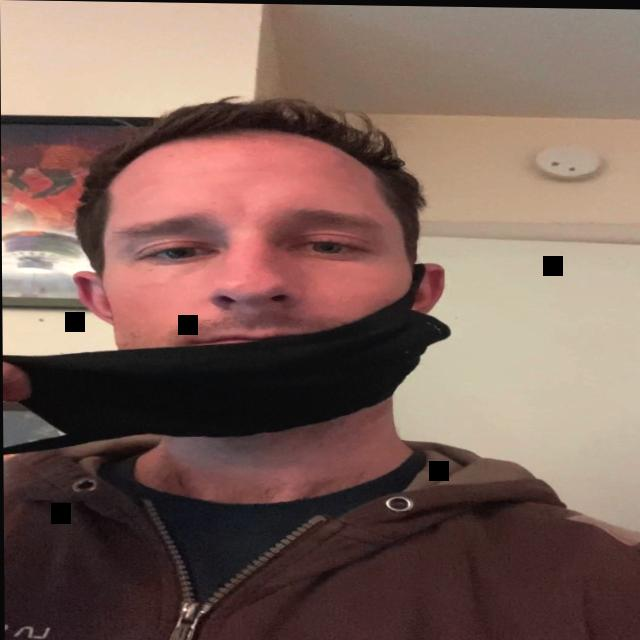NO-Mask: (56, 113, 438, 413)
